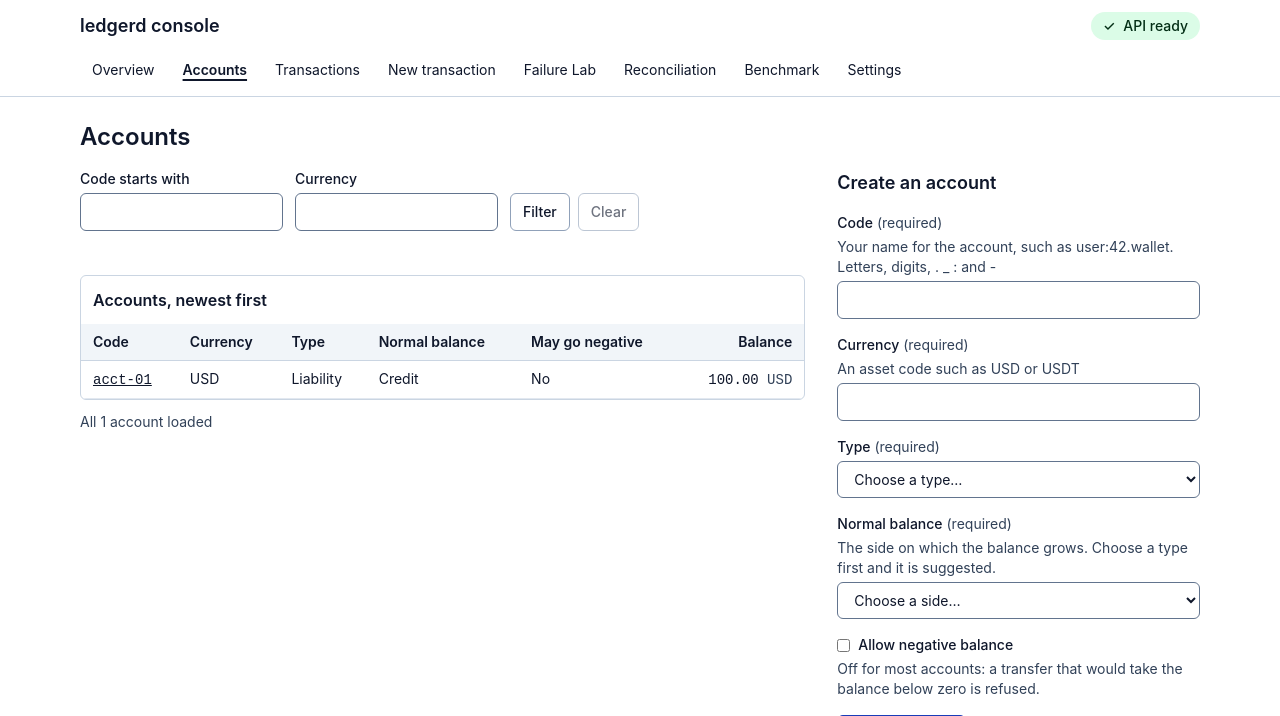
Test: the account form › suggests ASSET -> DEBIT, and says so
The width and height of the screenshot is (1280, 716).
Expected: the heading "Accounts" is shown, x1=80 y1=121 x2=190 y2=153
Select "Asset" in the dropdown labelled "Type (required)": (1019,480) x1=837 y1=461 x2=1200 y2=498
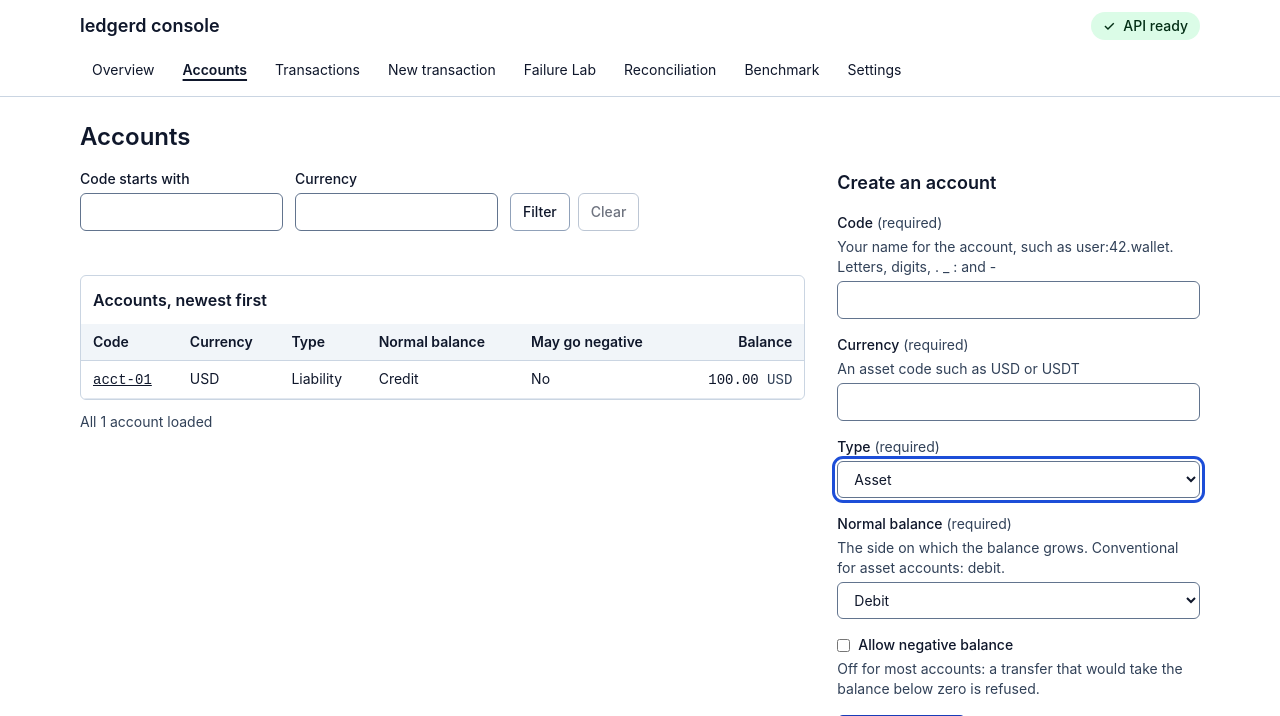
Expected: the dropdown labelled "Normal balance (required)" shows "Debit", x1=837 y1=582 x2=1200 y2=619
